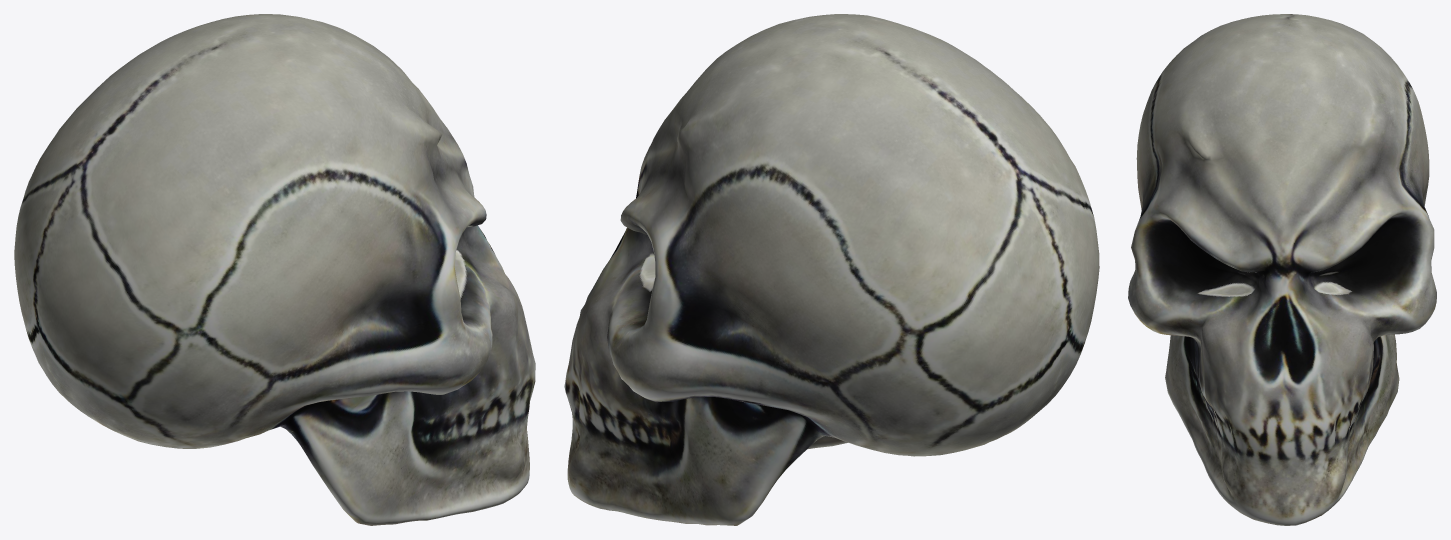
The model's file is Skull 1.fbx.
The picture shows the model from 3 angles, left to right: view 1: azimuth 30°, elevation 25°; view 2: azimuth 150°, elevation 25°; view 3: azimuth 270°, elevation 25°; orthographic projection. The views are drawn at different scales.
Parts seen in each view (by area): view 1: mesh; view 2: mesh; view 3: mesh.
Boxes of the visible parts, box(x1,y1,x2,y2) form: mesh: box(14, 14, 535, 525); mesh: box(564, 14, 1099, 525); mesh: box(1128, 14, 1436, 525).
Size of the model in its own units: 99.9 by 98.88 by 69.49.
